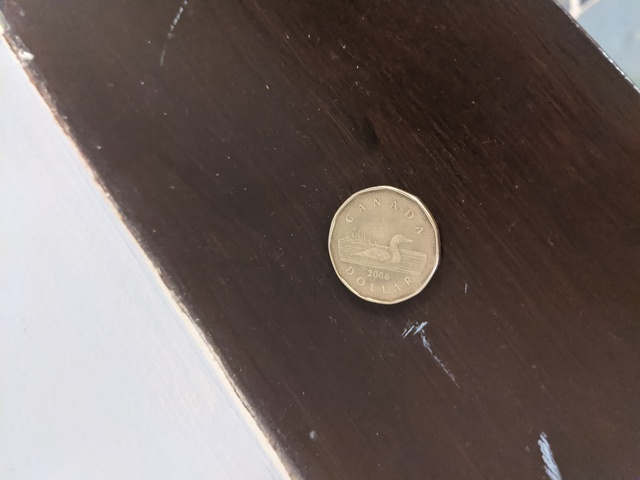loonie: (324, 171, 452, 311)
